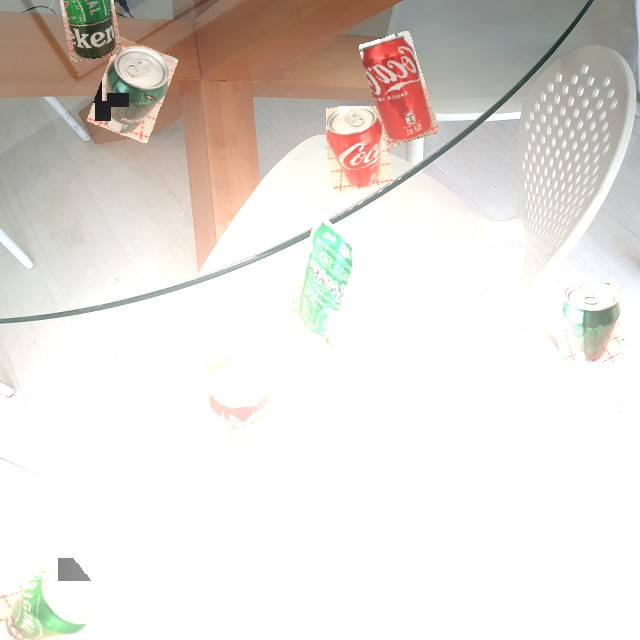coca cola: (187, 351, 297, 463), (359, 31, 439, 147), (326, 106, 393, 193)
heineken: (0, 552, 103, 640), (55, 0, 122, 62)
schweppes: (87, 37, 178, 143), (562, 283, 620, 362)
sprite: (278, 212, 382, 347)
